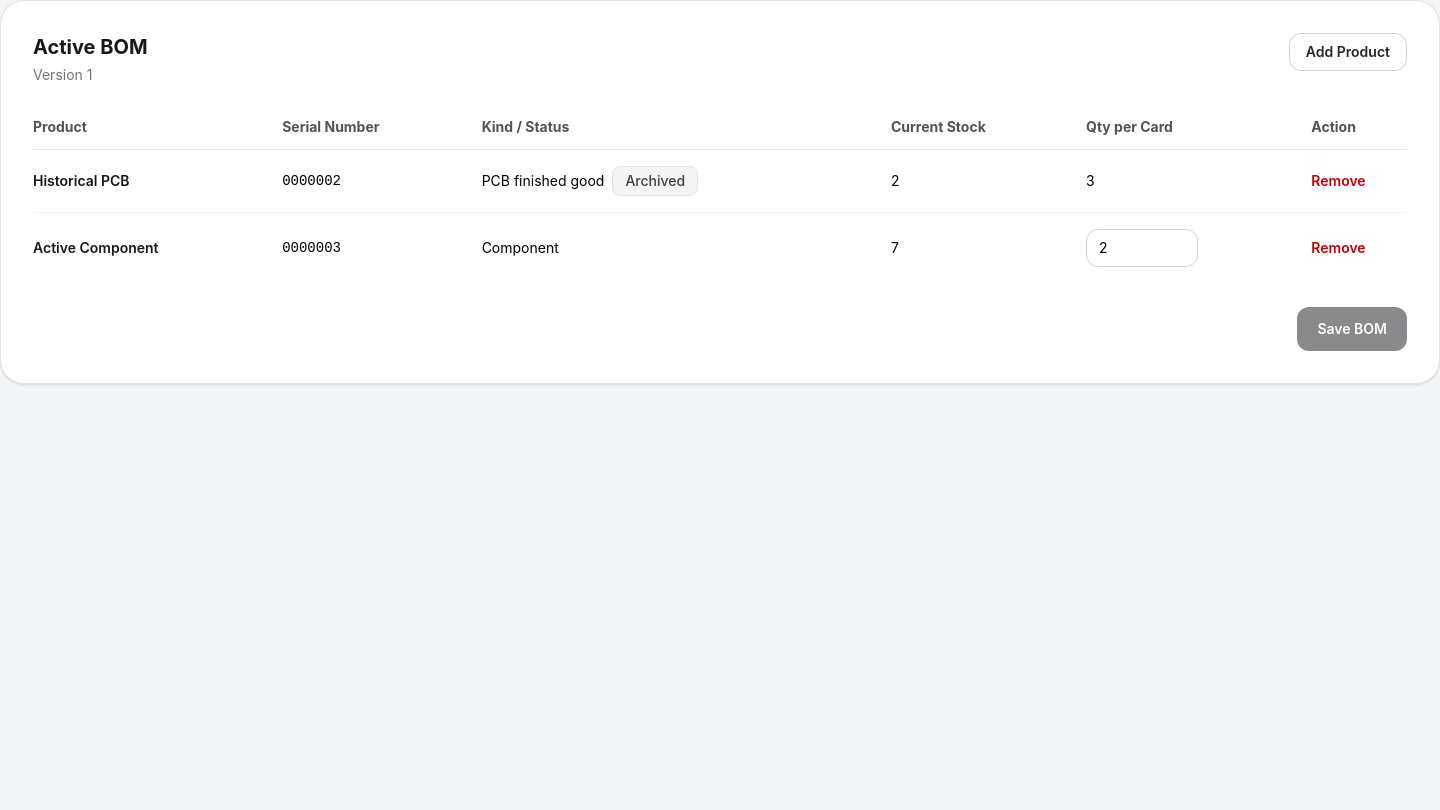
Test: PCB BOM editor › searches narrow choices and excludes own output and already selected Products
This screenshot has width=1440, height=810.
Click the button "Add Product" at (1348, 52), box [1289,33,1407,71]
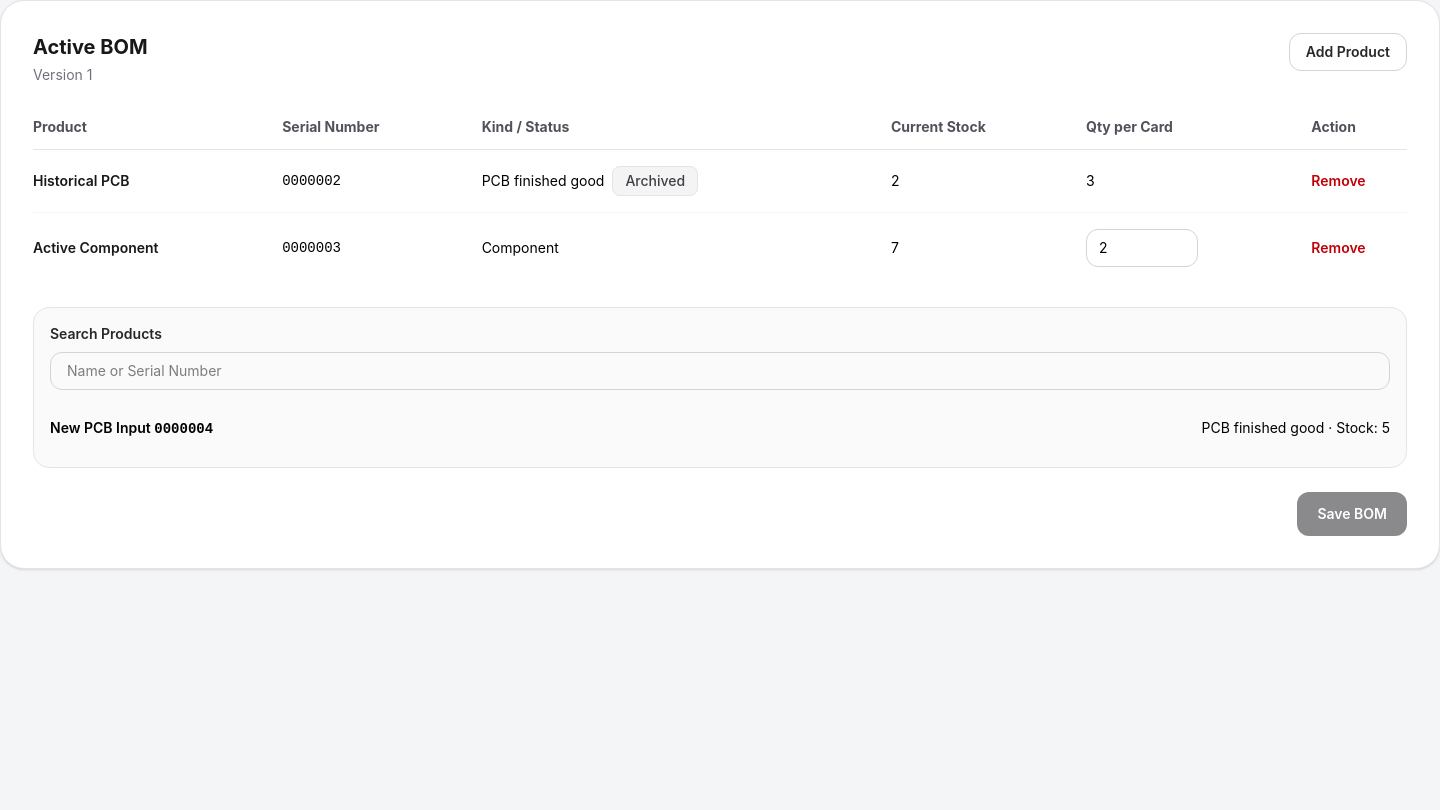
Check: the field labelled "Search Products" is shown
Type "  New PCB  " into the field labelled "Search Products" at (720, 371), box [50,352,1390,390]
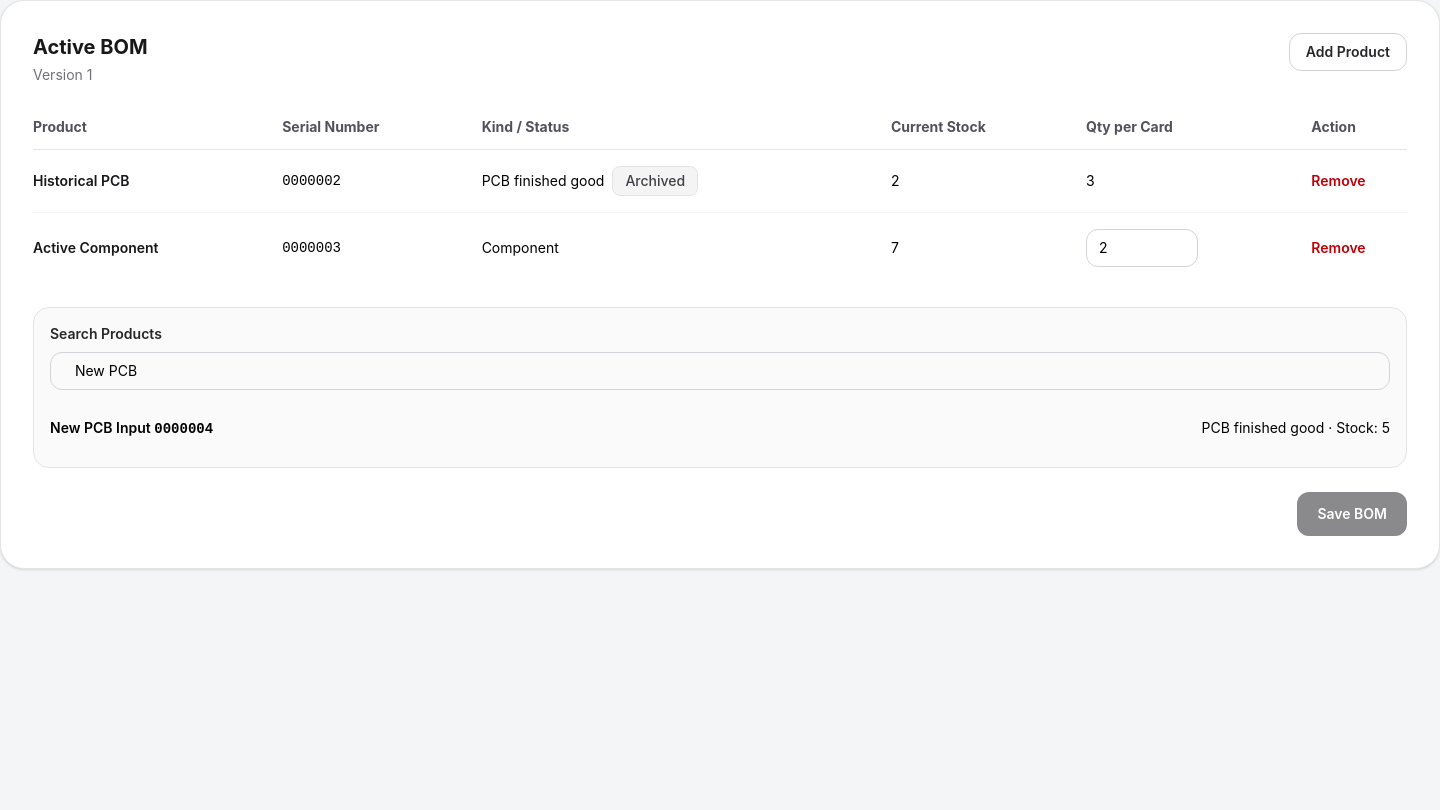
Check: the button "New PCB Input 0000004 PCB finished good · Stock: 5" is shown
Click the button "New PCB Input 0000004 PCB finished good · Stock: 5" at (100, 428), box [50,406,1390,451]
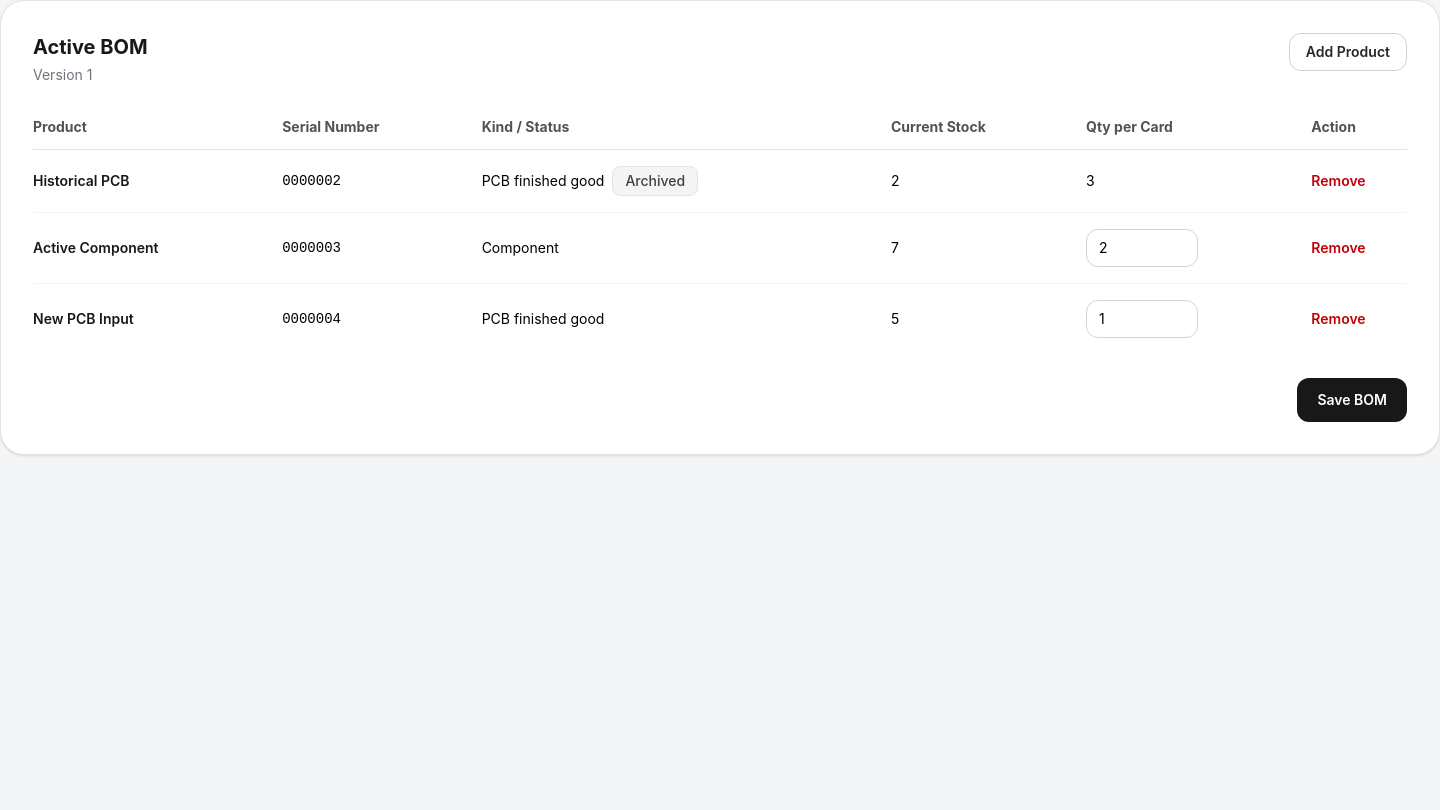
Check: the text "New PCB Input" is shown, box [33,284,282,354]
Check: the field named "Qty per Card for New PCB Input" holds "1", box [1086,300,1198,338]
